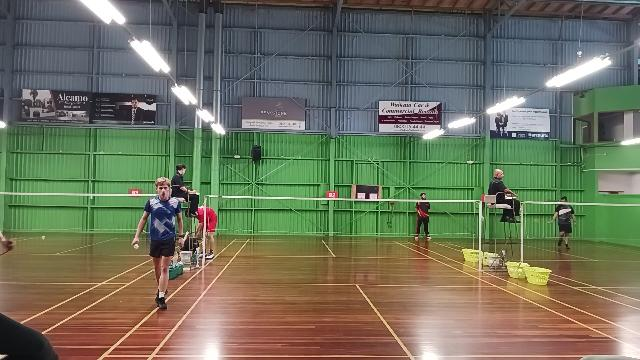Shuttlecock: (131, 240, 141, 250)
